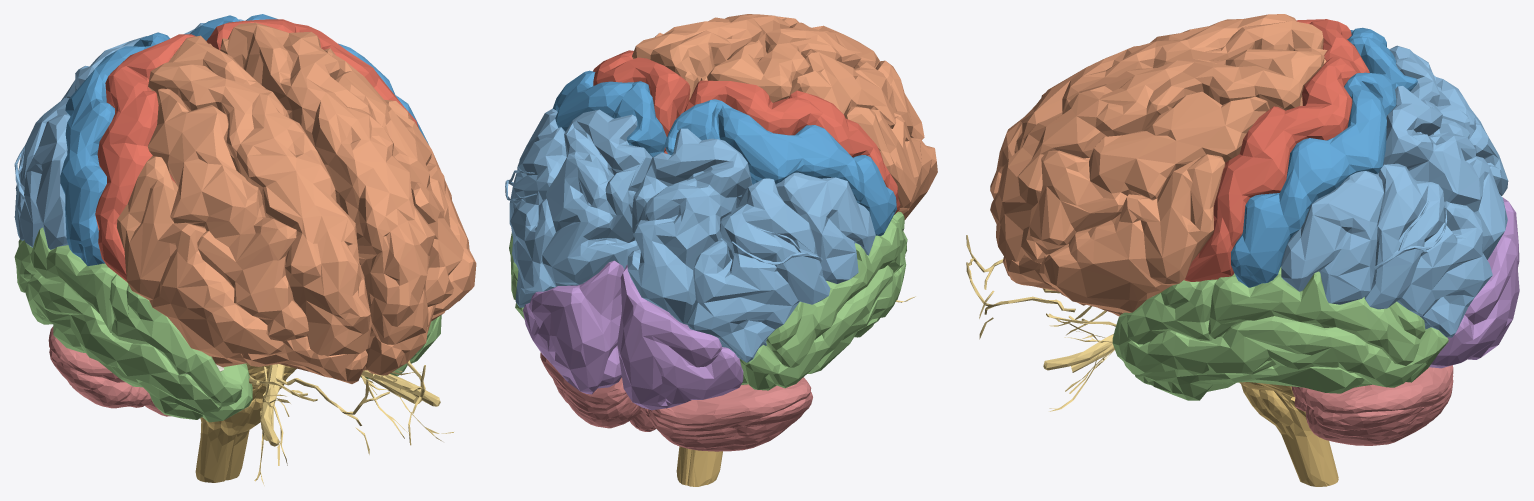
Rendered from brain.glb.
3 views of the same model, side by side, from view 1: azimuth 30°, elevation 25°; view 2: azimuth 150°, elevation 25°; view 3: azimuth 270°, elevation 25° (orthographic). The views are drawn at different scales.
Visible parts, largest first — view 1: frontal, temporal, motor, sensory, parietal, nerves, brainstem, cerebellum; view 2: parietal, frontal, occipital, sensory, temporal, cerebellum, motor, brainstem; view 3: frontal, parietal, temporal, sensory, motor, cerebellum, occipital, brainstem, nerves.
Boxes of the visible parts, bbox=[...] form: frontal: bbox=[117, 22, 476, 383]; temporal: bbox=[14, 227, 441, 422]; motor: bbox=[95, 19, 418, 282]; sensory: bbox=[60, 14, 428, 266]; parietal: bbox=[14, 19, 244, 249]; nerves: bbox=[249, 360, 453, 485]; brainstem: bbox=[195, 363, 296, 482]; cerebellum: bbox=[48, 326, 170, 416]; parietal: bbox=[505, 108, 875, 362]; frontal: bbox=[632, 14, 937, 219]; occipital: bbox=[523, 260, 743, 410]; sensory: bbox=[552, 70, 896, 235]; temporal: bbox=[509, 211, 907, 390]; cerebellum: bbox=[540, 352, 812, 451]; motor: bbox=[593, 50, 900, 214]; brainstem: bbox=[676, 446, 722, 486]; frontal: bbox=[990, 14, 1327, 316]; parietal: bbox=[1281, 45, 1508, 337]; temporal: bbox=[1112, 266, 1448, 400]; sensory: bbox=[1231, 27, 1417, 287]; motor: bbox=[1184, 19, 1369, 281]; cerebellum: bbox=[1291, 365, 1453, 445]; occipital: bbox=[1429, 197, 1519, 368]; brainstem: bbox=[1239, 382, 1338, 486]; nerves: bbox=[966, 235, 1116, 411].
Size of the model in its own units: 0.141 by 0.166 by 0.1882.
